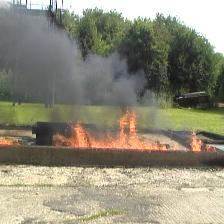fire: (52, 110, 171, 149), (191, 129, 203, 151), (0, 136, 23, 144)
